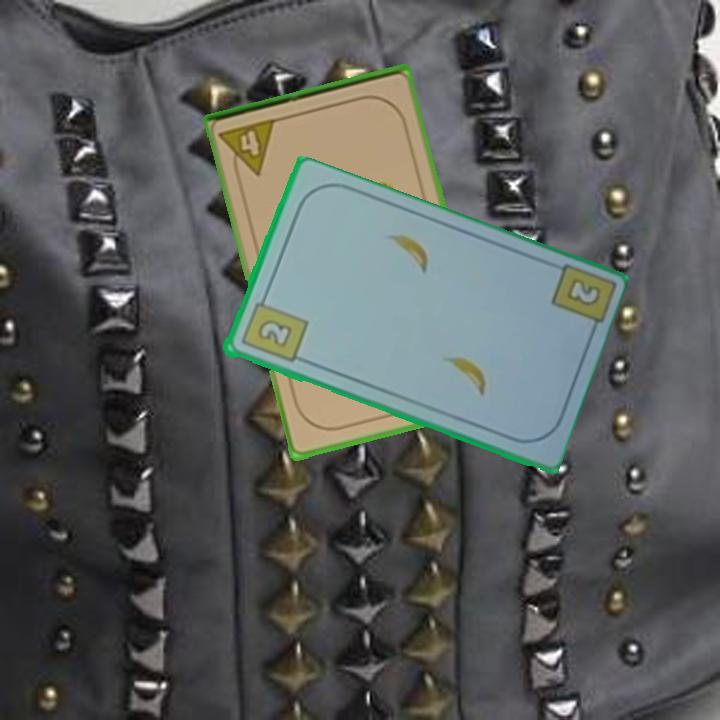2b: (237, 291, 310, 366), (562, 274, 603, 310)
4p: (216, 115, 280, 182)
